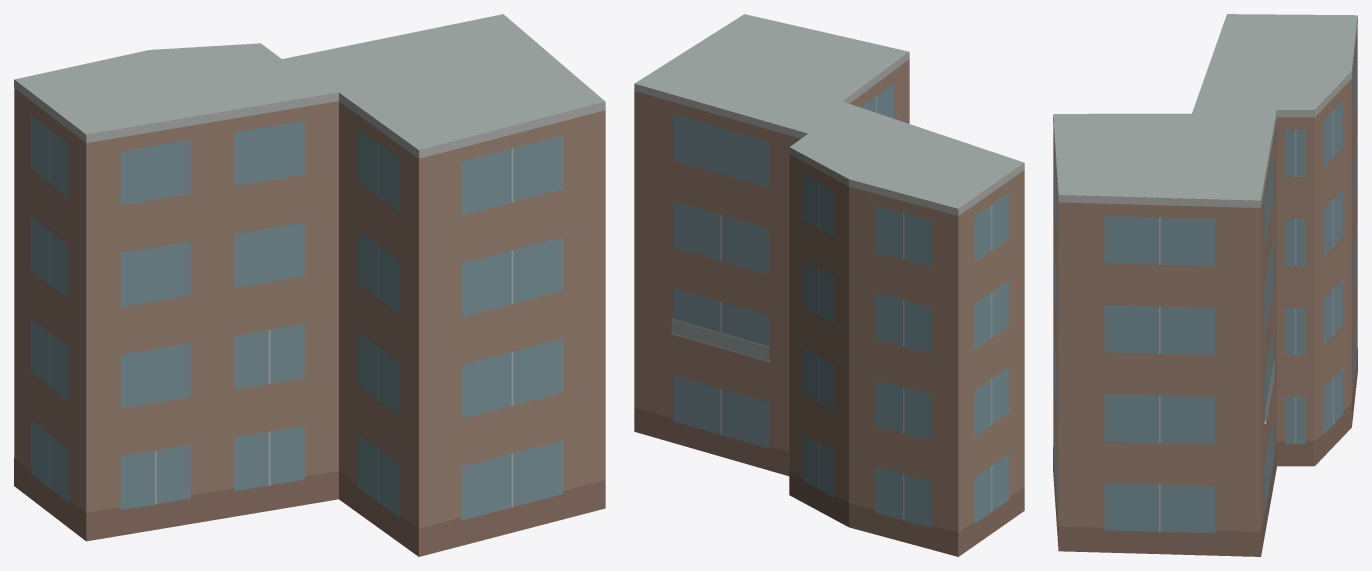
File: survey-upis-32896174.glb
The picture shows the model from 3 angles, left to right: view 1: azimuth 30°, elevation 25°; view 2: azimuth 150°, elevation 25°; view 3: azimuth 270°, elevation 25°; orthographic projection. The views are drawn at different scales.
Parts seen in each view (by area): view 1: survey-upis-32896174.tmp; view 2: survey-upis-32896174.tmp; view 3: survey-upis-32896174.tmp.
Part boxes in pixels (x1,y1,x2,y2): survey-upis-32896174.tmp: (14,14,605,556); survey-upis-32896174.tmp: (634,14,1024,556); survey-upis-32896174.tmp: (1053,14,1357,556).
Size of the model in its own units: 13.16 by 11.7 by 9.08.
